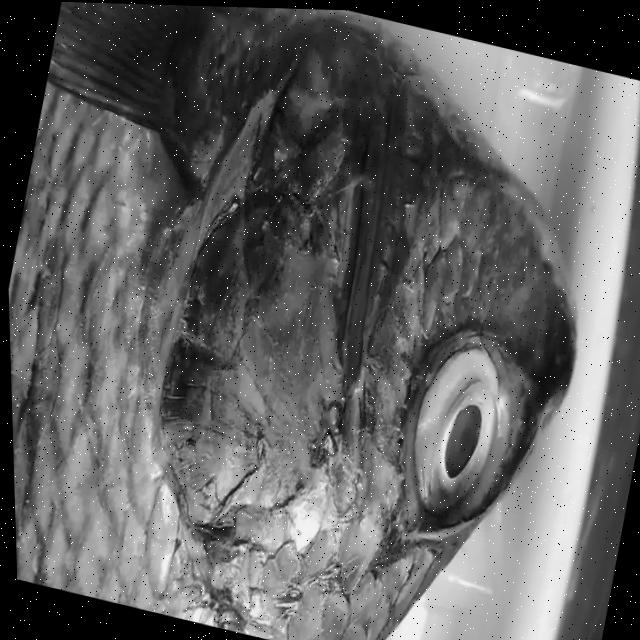Fresh: (0, 0, 369, 634), (339, 291, 532, 600)
